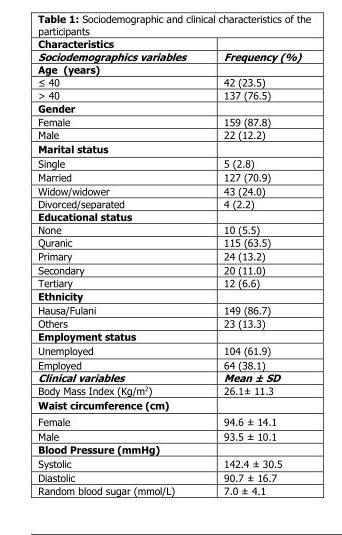table: (36, 36, 303, 496)
table column: (36, 36, 205, 496), (205, 36, 303, 496)
table column header: (36, 36, 303, 62)
table projected row header: (36, 397, 303, 412), (36, 141, 303, 155), (36, 288, 303, 302), (36, 62, 303, 75), (36, 101, 303, 114), (36, 209, 303, 222), (36, 329, 303, 342), (36, 442, 303, 455)
table row: (36, 412, 303, 428), (36, 342, 303, 357), (36, 397, 303, 412), (36, 127, 303, 141), (36, 141, 303, 155), (36, 155, 303, 169), (36, 169, 303, 183), (36, 248, 303, 262), (36, 288, 303, 302), (36, 302, 303, 316), (36, 383, 303, 397), (36, 428, 303, 442), (36, 455, 303, 469), (36, 469, 303, 483), (36, 36, 303, 49), (36, 49, 303, 62), (36, 62, 303, 75), (36, 75, 303, 88), (36, 88, 303, 101), (36, 101, 303, 114), (36, 114, 303, 127), (36, 183, 303, 196), (36, 196, 303, 209), (36, 209, 303, 222), (36, 222, 303, 235), (36, 235, 303, 248), (36, 262, 303, 275), (36, 275, 303, 288), (36, 316, 303, 329), (36, 329, 303, 342), (36, 357, 303, 370), (36, 370, 303, 383), (36, 442, 303, 455), (36, 483, 303, 496)
table spanning cell: (36, 36, 205, 62), (205, 36, 303, 62)
